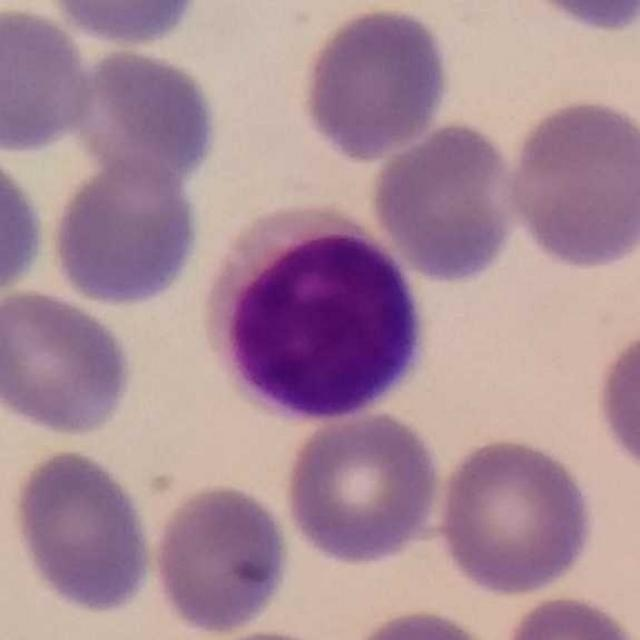Lymphocyte: (195, 200, 436, 433)
RBC: (433, 433, 600, 599), (279, 405, 446, 568), (6, 444, 158, 619), (366, 117, 523, 286), (297, 2, 455, 164), (501, 94, 640, 274), (45, 155, 204, 309), (148, 478, 295, 639), (70, 42, 224, 190), (0, 285, 139, 440), (0, 2, 99, 157), (39, 0, 206, 50), (590, 322, 640, 482), (0, 144, 49, 305), (497, 591, 640, 640), (338, 604, 504, 640), (507, 0, 640, 36), (175, 625, 349, 640)
